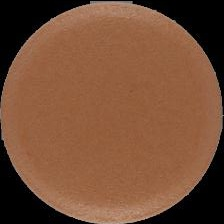68788-2112: (0, 0, 224, 224)
